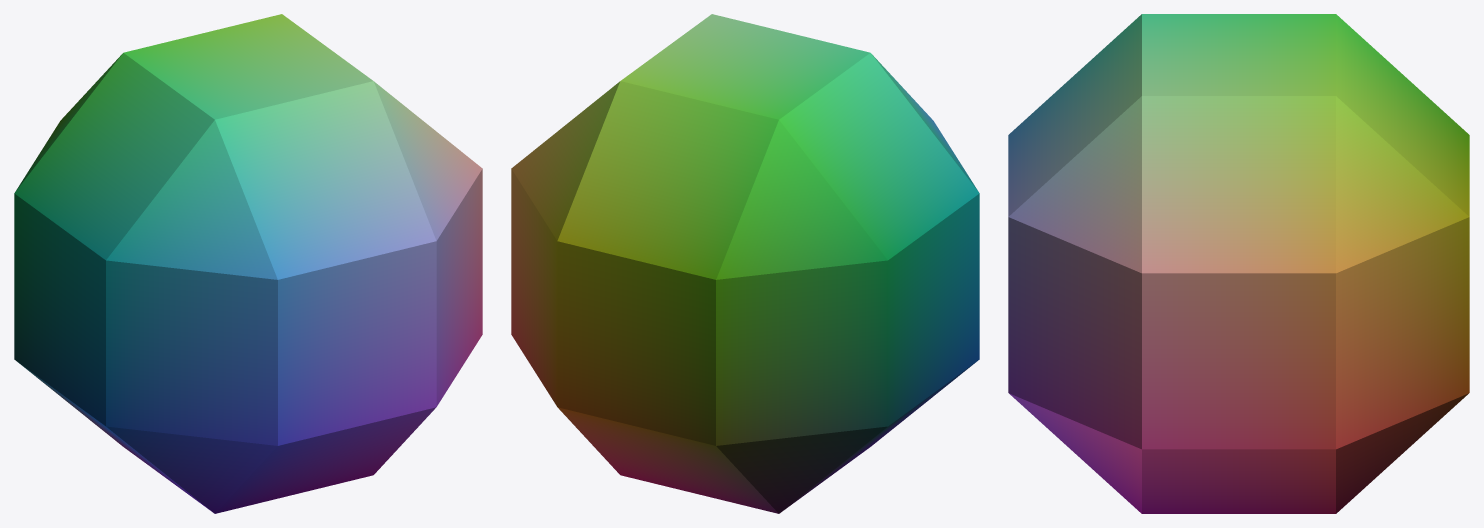
Rendered from zeometry-polyhedra-rhombicuboctahedron_v1.glb.
3 renders of one model, left to right at view 1: azimuth 30°, elevation 25°; view 2: azimuth 150°, elevation 25°; view 3: azimuth 270°, elevation 25°, orthographic. The views are drawn at different scales.
Parts seen in each view (by area): view 1: Rhombicuboctahedron; view 2: Rhombicuboctahedron; view 3: Rhombicuboctahedron.
Part boxes in pixels (x1,y1,x2,y2): Rhombicuboctahedron: (14,14,482,513); Rhombicuboctahedron: (511,14,979,513); Rhombicuboctahedron: (1008,14,1469,513).
Bounding box in the file's own units: 0.5 × 0.5 × 0.5.
